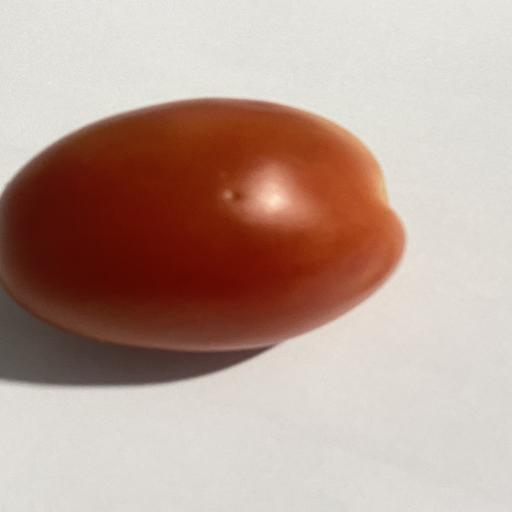ripe: (0, 99, 404, 351)
